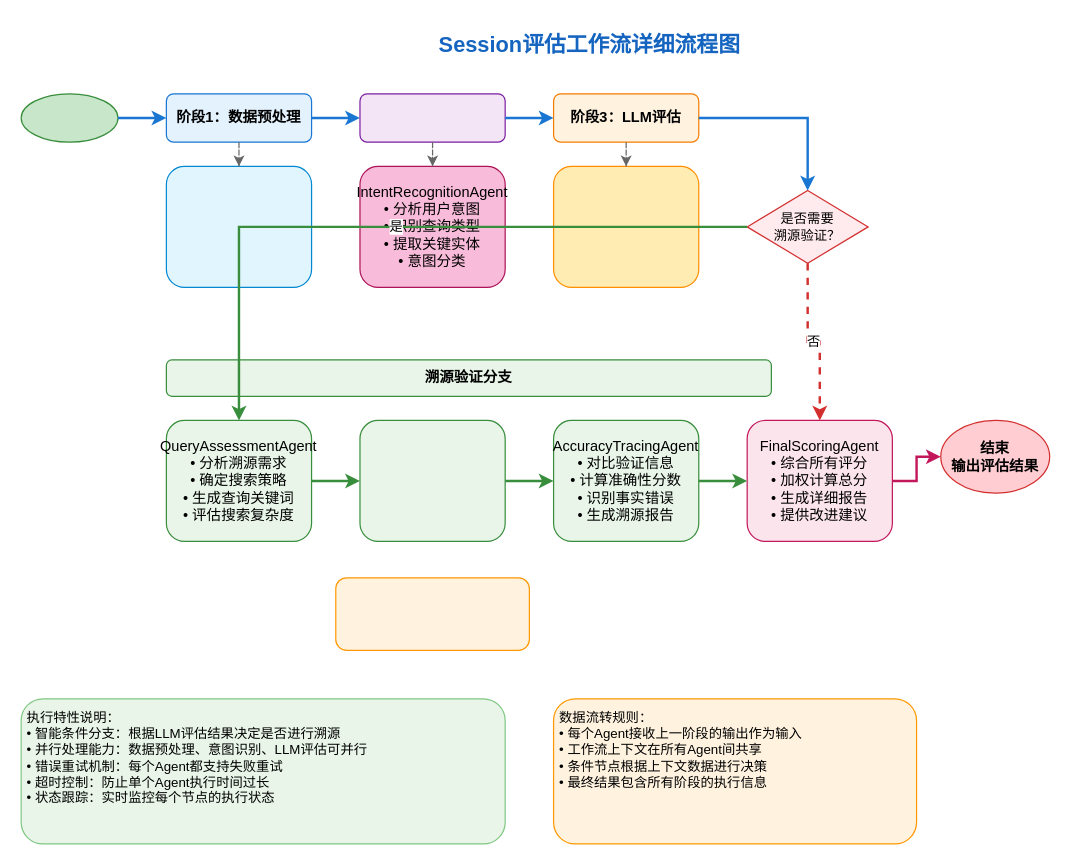
Some shapes in this 1071 by 865 pixel diagram are drawn without their labels. Each missing label, with the centre of its shape:
"DataPreprocessingAgent • 清理对话数据 • 格式标准化 • 提取关键信息 • 数据验证" goes at point (238, 226).
"LLMEvaluationAgent • 评估回答质量 • 检查逻辑一致性 • 分析语言流畅度 • 相关性评分" goes at point (625, 226).
"SearchAPIAgent • 调用外部API • 多源信息检索 • 结果聚合处理 • 相关性筛选" goes at point (432, 480).
"并行执行区域 当条件满足时，多个Agent 可以同时执行以提高效率" goes at point (432, 613).
"开始" goes at point (69, 117).
"阶段2：意图识别" goes at point (432, 117).
